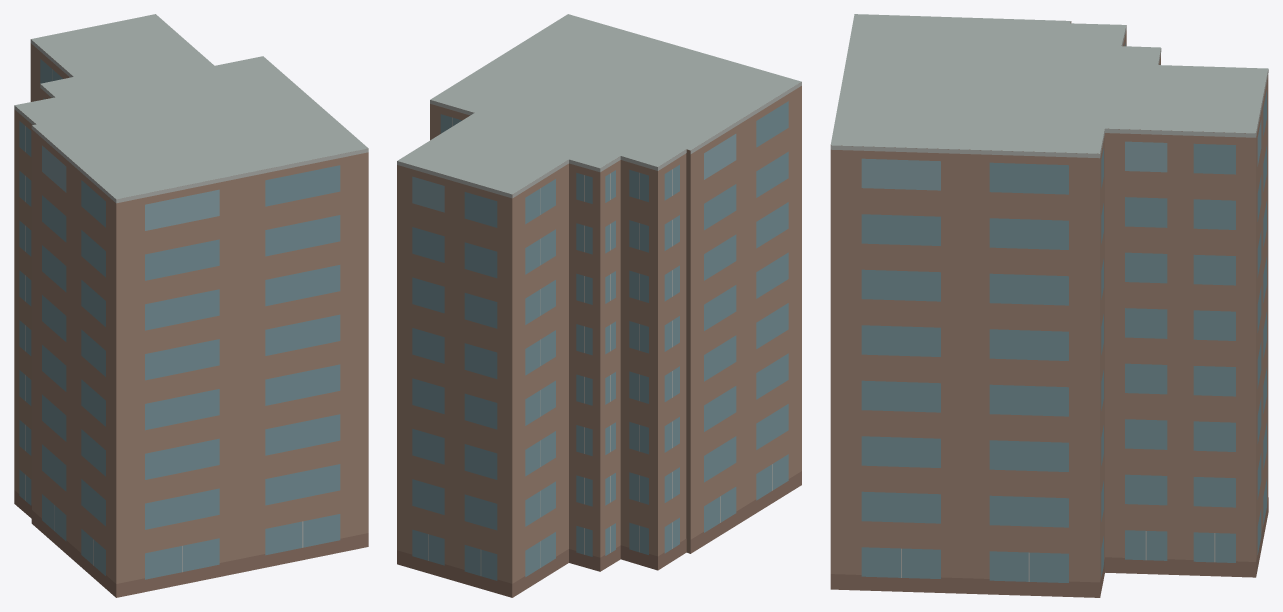
Rendered from survey-upis-32587070.glb.
3 renders of one model, left to right at view 1: azimuth 30°, elevation 25°; view 2: azimuth 150°, elevation 25°; view 3: azimuth 270°, elevation 25°, orthographic. The views are drawn at different scales.
Visible parts, largest first — view 1: survey-upis-32587070.tmp; view 2: survey-upis-32587070.tmp; view 3: survey-upis-32587070.tmp.
Boxes of the visible parts, x1=… form: survey-upis-32587070.tmp: x1=14, y1=14, x2=368, y2=597; survey-upis-32587070.tmp: x1=397, y1=14, x2=801, y2=597; survey-upis-32587070.tmp: x1=830, y1=14, x2=1268, y2=597.
Bounding box in the file's own units: 16.83 × 24.9 × 22.26.
